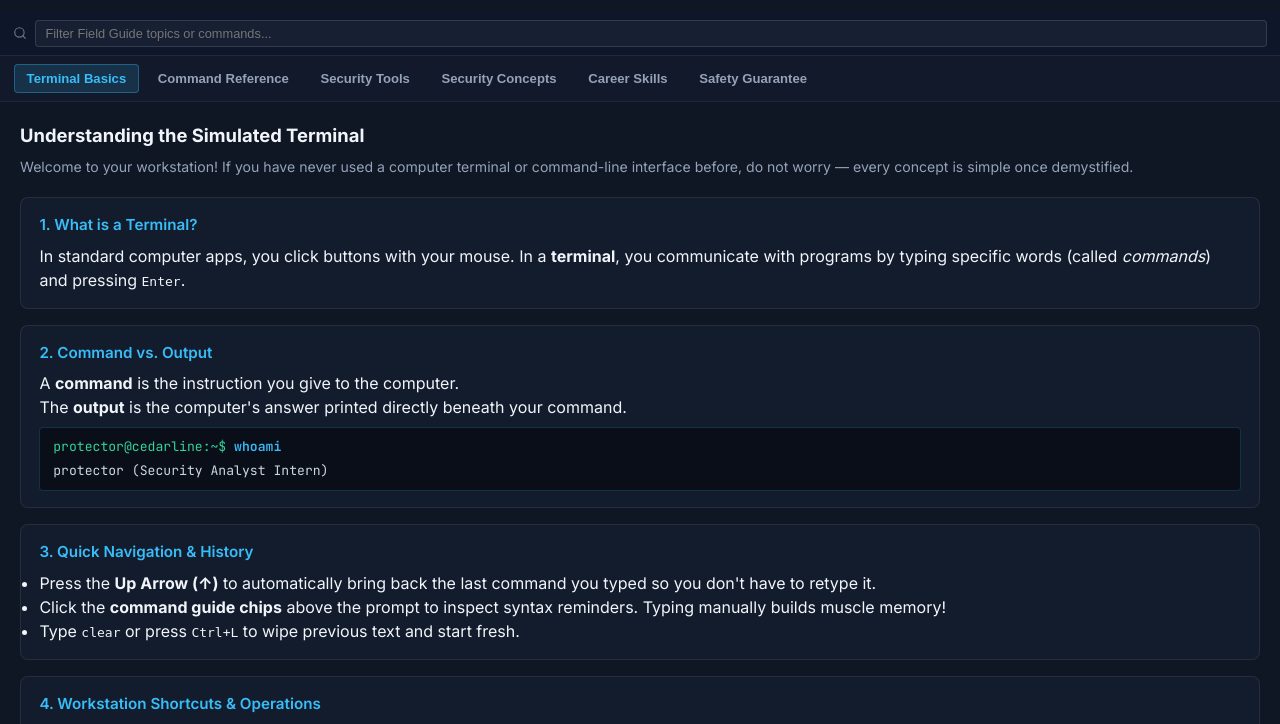
FieldGuideApp Component › switches to Security Concepts tab and displays analogies
Step 1. Click the tab with test id "guide-tab-concepts" → (499, 78), box [428,64,570,93]
(page scrolled)
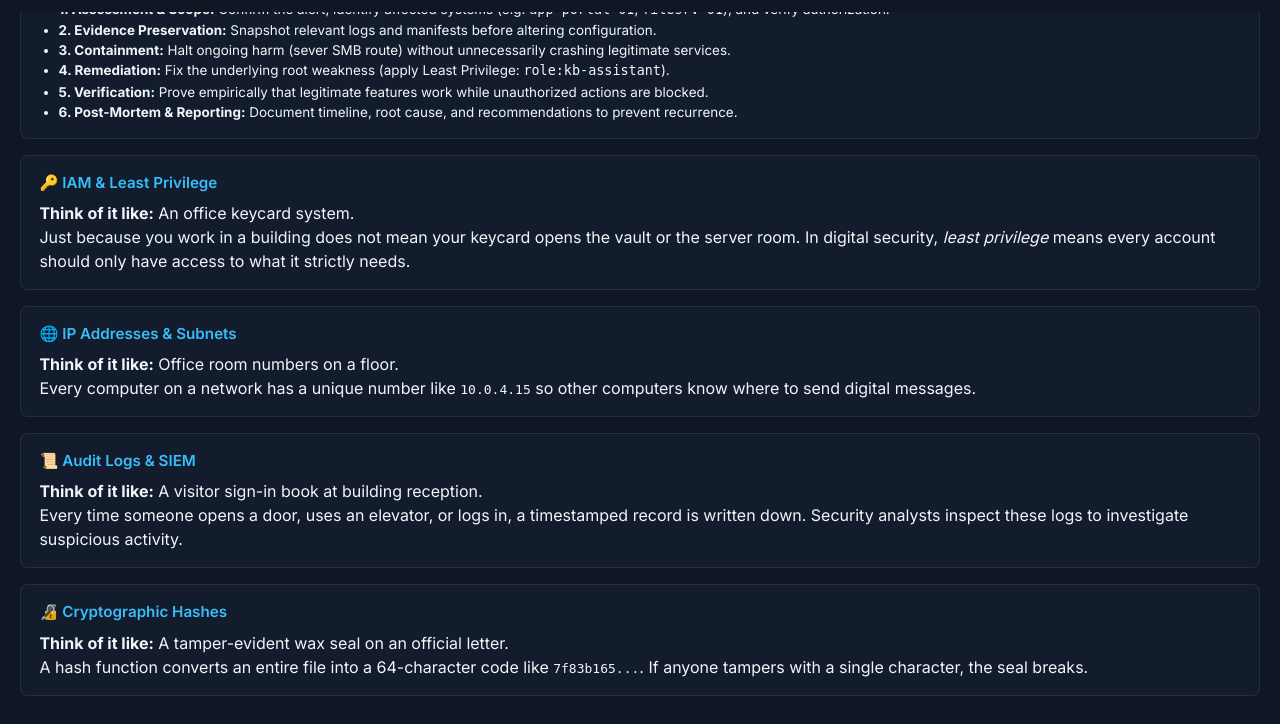
Expected: the heading "🔑 IAM & Least Privilege" is shown, [39,173,217,192]
Expected: the heading "🔏 Cryptographic Hashes" is shown, [39,602,227,622]
